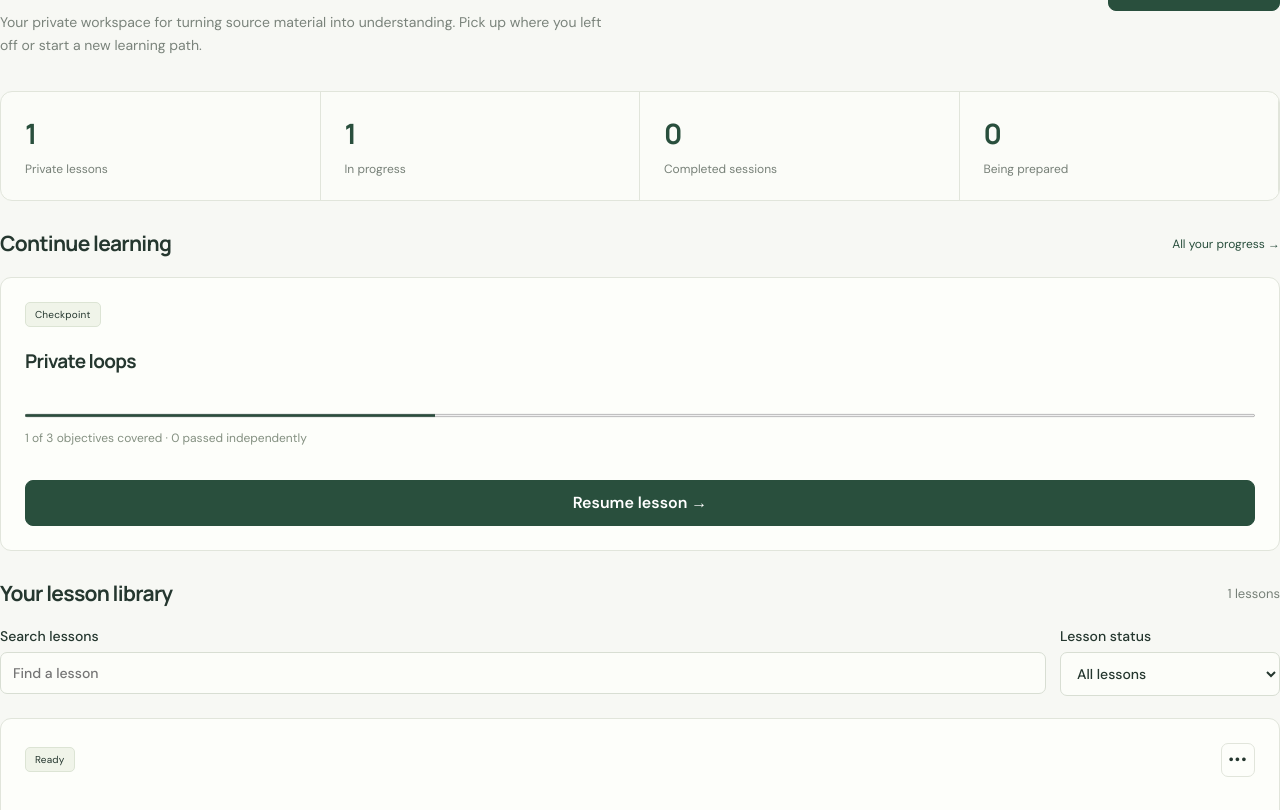
keeps classroom sessions and jobs out of the independent workspace
In the search field labelled "Search lessons": (523, 672) [0,652,1046,694], type "unknown topic"
(page scrolled)
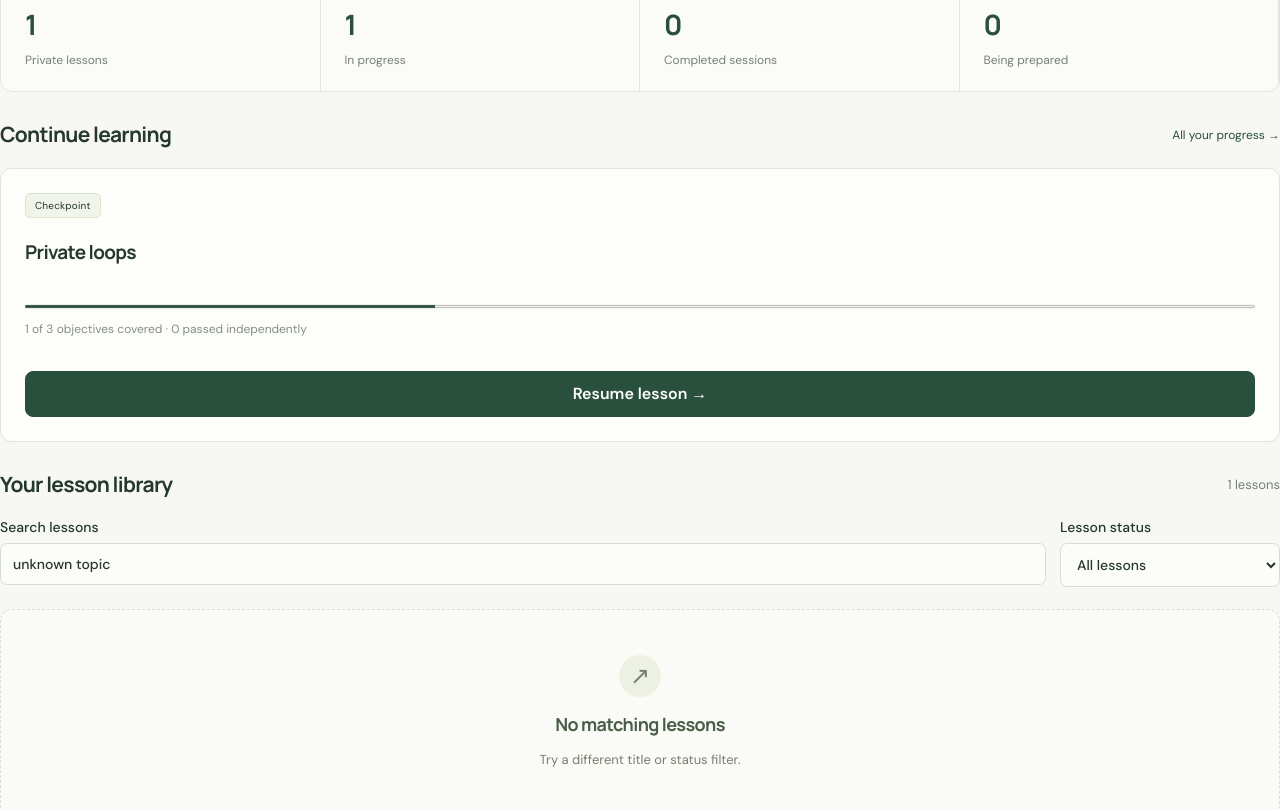
Result: the heading "No matching lessons" is shown at [555,712,725,736]
